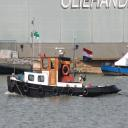tugboat: (7, 16, 124, 102)
